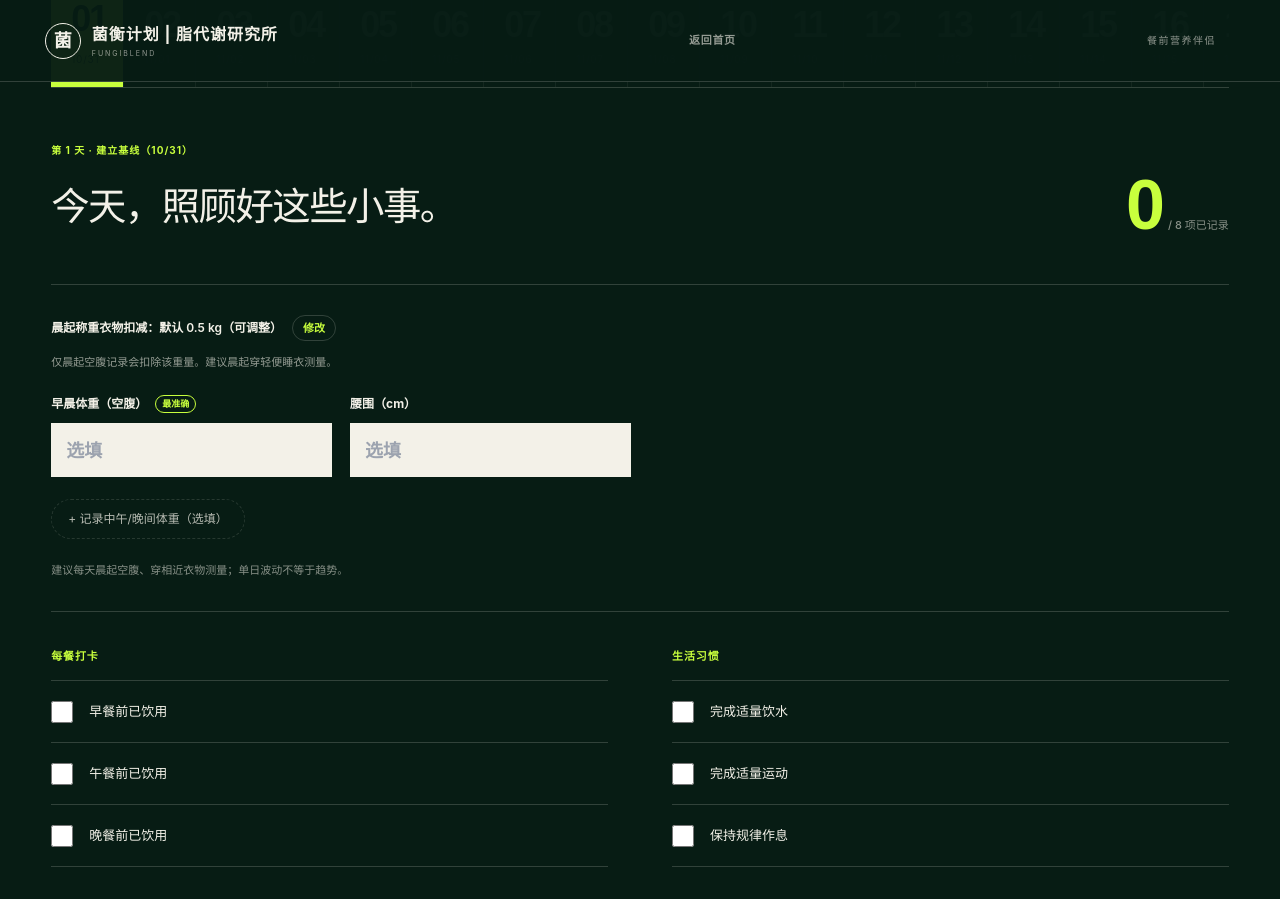
Test: 极简体重记录与衣物扣减 › 衣物编辑取消不落盘，确认后更新今天的扣减与净重
(page scrolled)
Type "68" into the number field labelled "早晨体重（空腹）".
click(192, 450); type("68")  # box [51, 423, 332, 477]
(page scrolled)
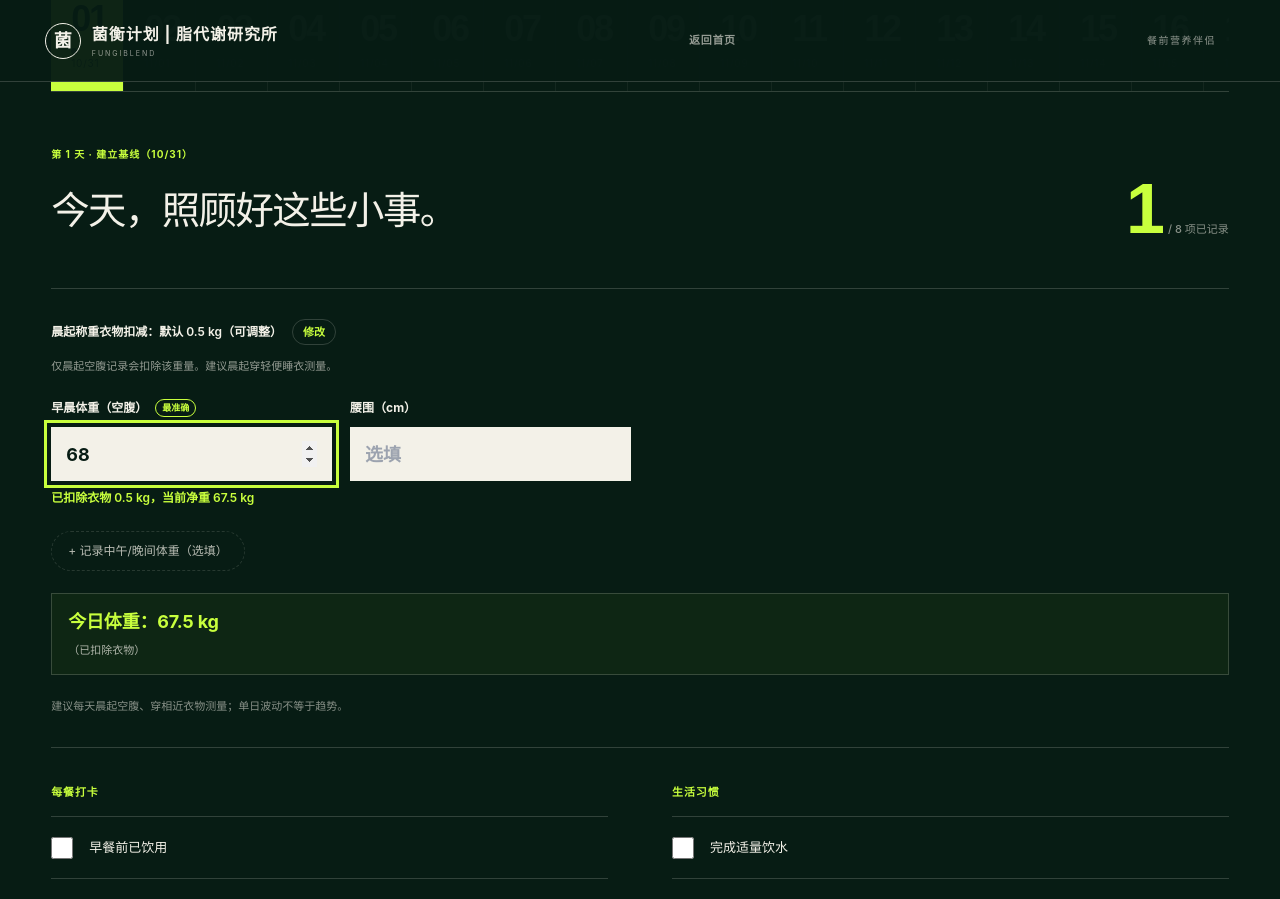
Click the button "修改".
click(314, 332)  # box [292, 319, 336, 345]
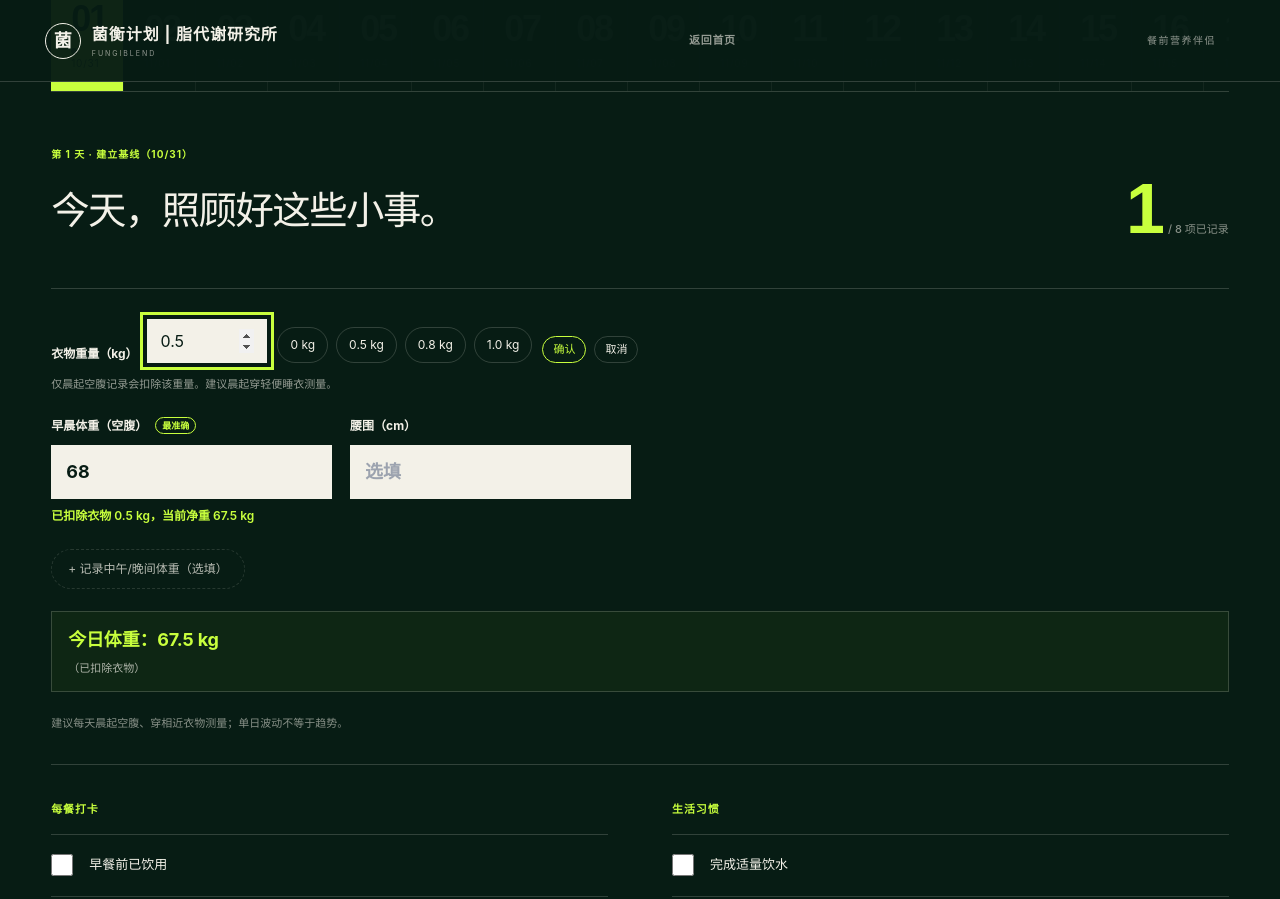
Replace the text in the number field labelled "衣物重量（kg）" with "0.8" at (208, 341), box [148, 319, 268, 363]
Click the button "取消".
click(616, 350)  # box [594, 336, 638, 363]
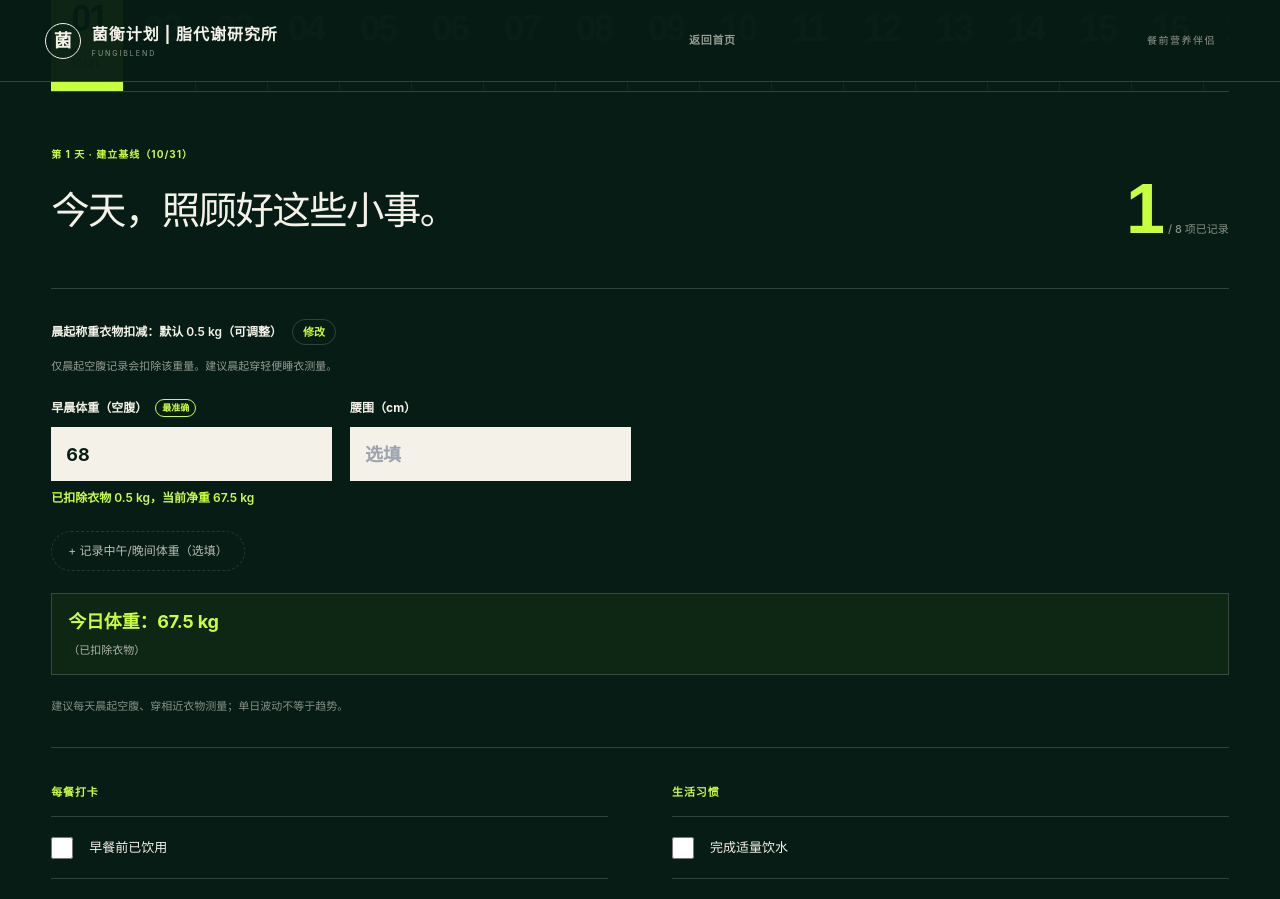
expect the text "已扣除衣物 0.5 kg，当前净重 67.5 kg" is shown: met, box [51, 490, 254, 505]
expect the label labelled "衣物重量（kg）" is gone: met
Click the button "修改".
click(314, 332)  # box [292, 319, 336, 345]
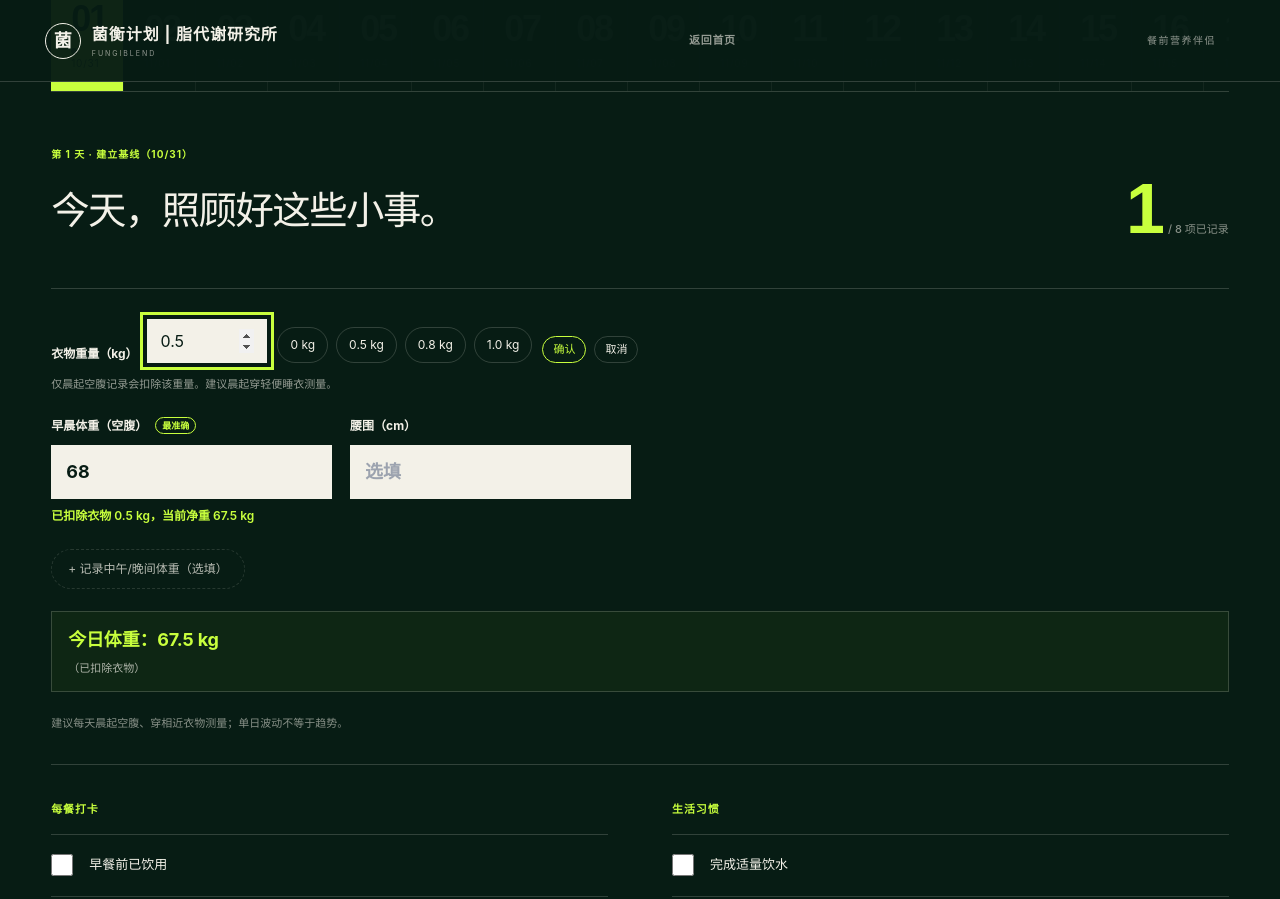
Replace the text in the number field labelled "衣物重量（kg）" with "0.8" at (208, 341), box [148, 319, 268, 363]
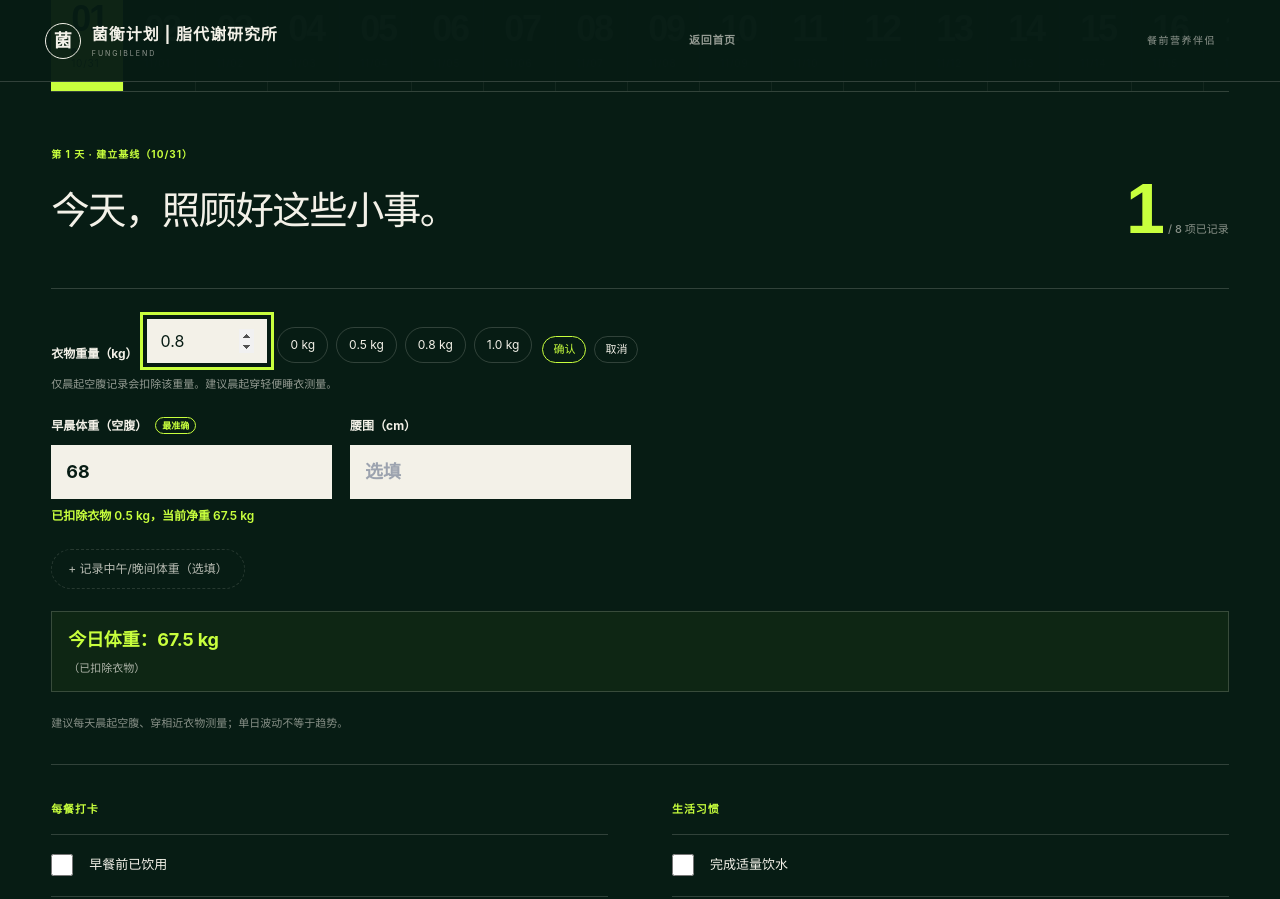
Click the button "确认".
click(564, 350)  # box [542, 336, 586, 363]
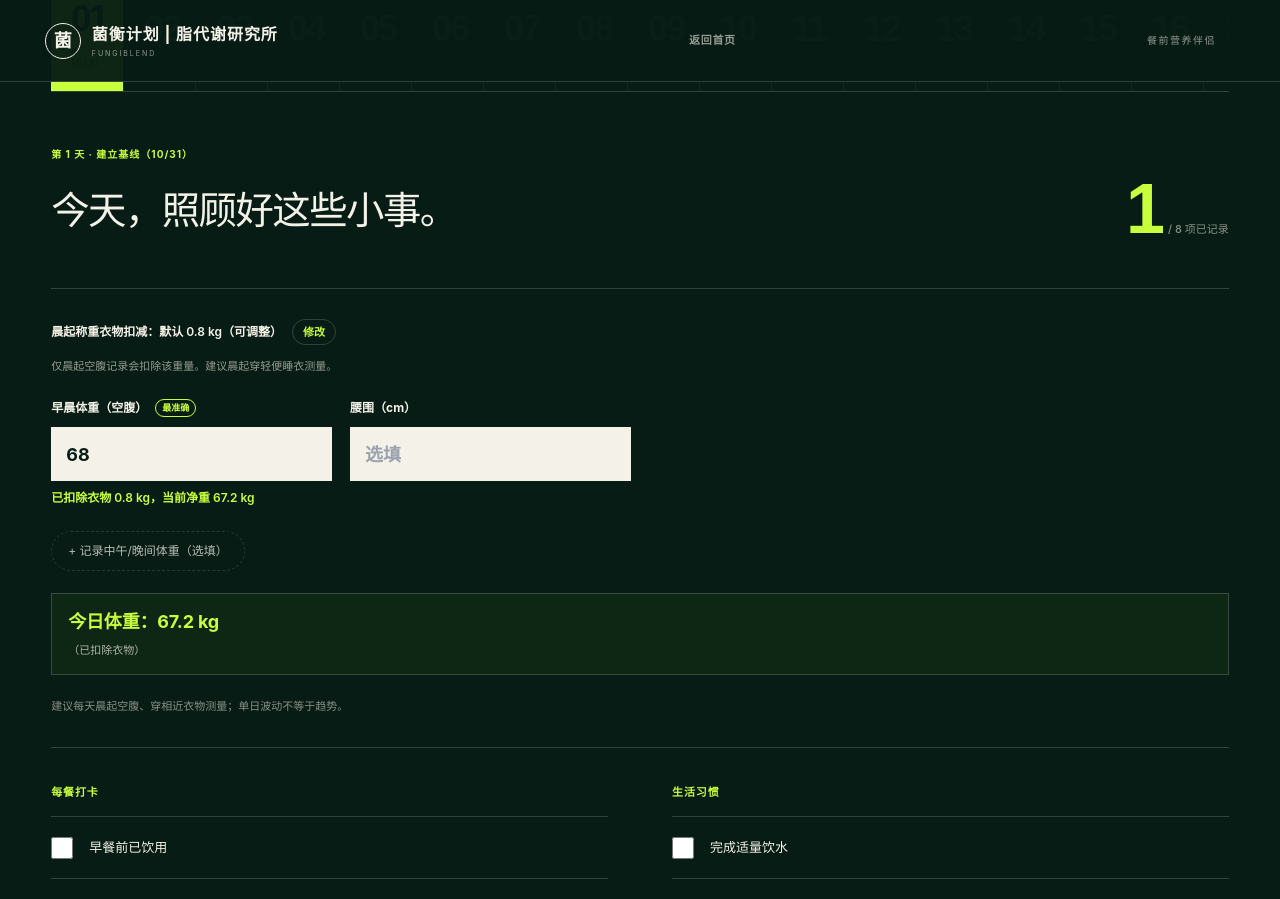
expect the label labelled "衣物重量（kg）" is gone: met
expect the text "已扣除衣物 0.8 kg，当前净重 67.2 kg" is shown: met, box [51, 490, 255, 505]
